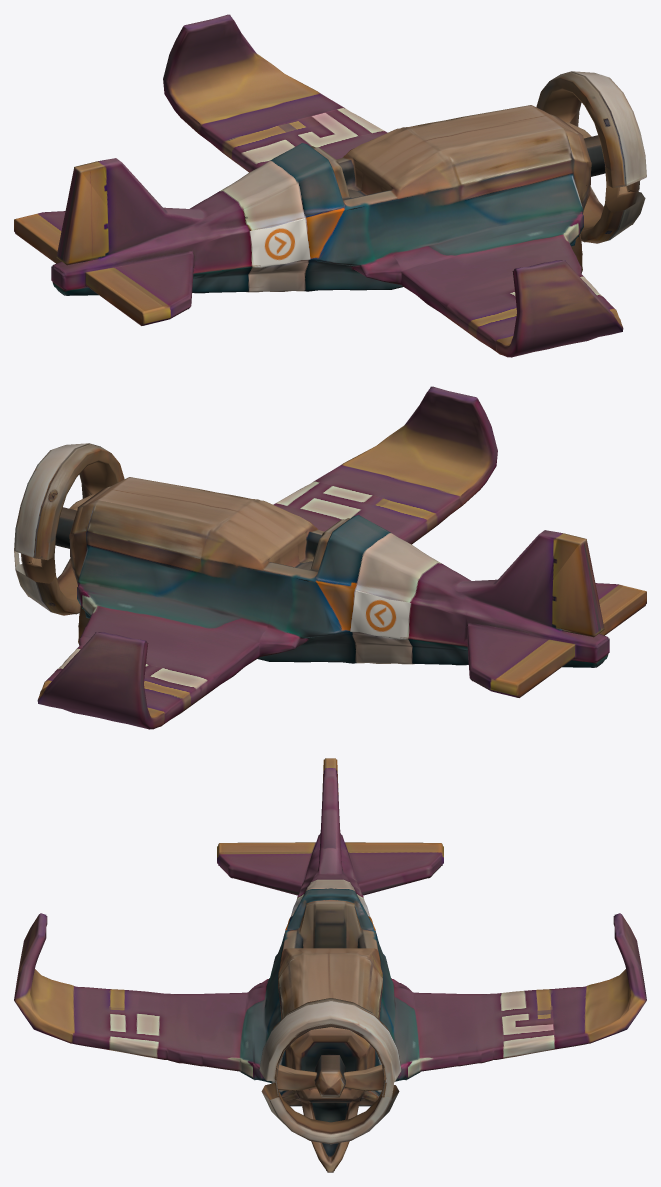
File: plane_v2_badge.glb
The picture shows the model from 3 angles, top to bottom: view 1: azimuth 30°, elevation 25°; view 2: azimuth 150°, elevation 25°; view 3: azimuth 270°, elevation 25°; orthographic projection. The views are drawn at different scales.
Parts seen in each view (by area): view 1: tripo_node_2502ee64-a6af-4ea9-b21b-aab51113430a; view 2: tripo_node_2502ee64-a6af-4ea9-b21b-aab51113430a; view 3: tripo_node_2502ee64-a6af-4ea9-b21b-aab51113430a.
Part boxes in pixels (left/top/right/bottom): tripo_node_2502ee64-a6af-4ea9-b21b-aab51113430a: left=14, top=14, right=646, bottom=357; tripo_node_2502ee64-a6af-4ea9-b21b-aab51113430a: left=14, top=386, right=646, bottom=729; tripo_node_2502ee64-a6af-4ea9-b21b-aab51113430a: left=14, top=758, right=646, bottom=1172.
Size of the model in its own units: 0.8982 by 0.3523 by 1.
Materials: 1 (1 with a texture image).
